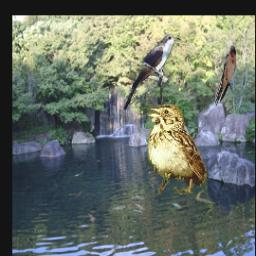Cuckoo: (124, 34, 181, 110)
Sparrow: (146, 104, 206, 195)
Swallow: (214, 45, 236, 106)
